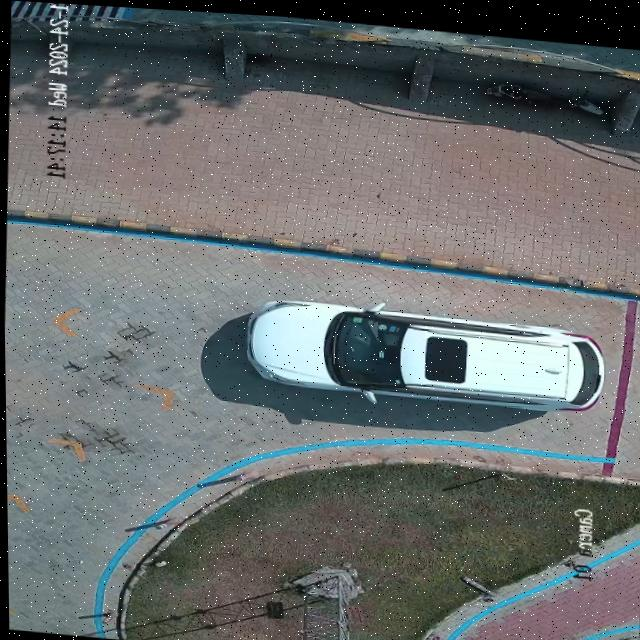car: (245, 296, 602, 403)
